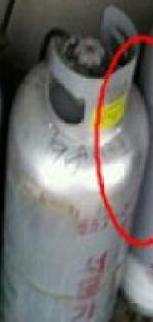cylinder: (1, 0, 153, 322)
